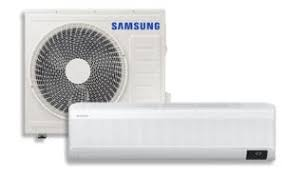ac: (66, 100, 280, 168)
